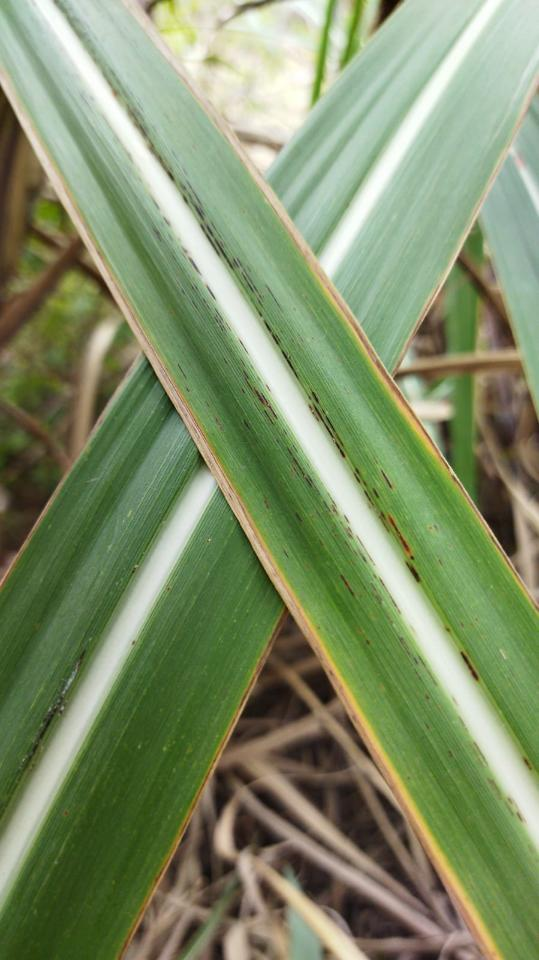Rust: (87, 90, 441, 689), (94, 59, 424, 585), (17, 647, 89, 774), (485, 775, 527, 826), (458, 646, 482, 684), (338, 574, 358, 601), (175, 360, 190, 381), (521, 754, 536, 774), (213, 415, 225, 433), (294, 510, 306, 526), (241, 417, 251, 431)
Yellow: (236, 496, 508, 959)
